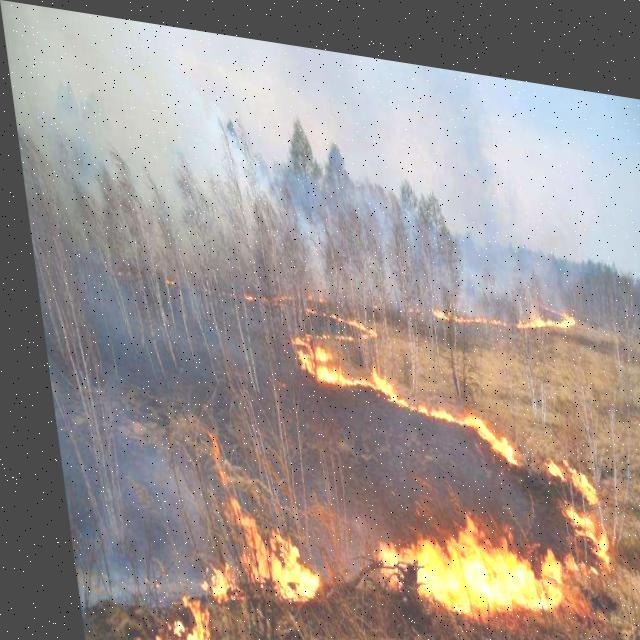Fire: (140, 238, 608, 639), (115, 588, 199, 639)
